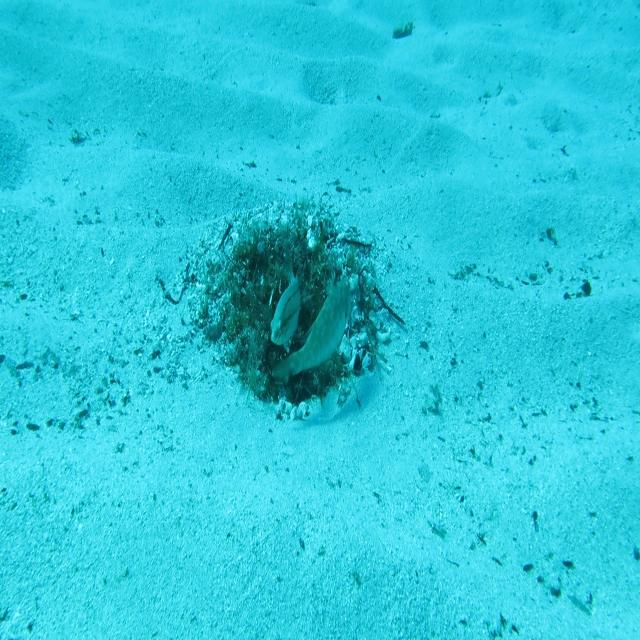BK_SW: (272, 270, 353, 386)
core_nest: (261, 228, 321, 273)
female: (270, 243, 302, 349)
nest: (180, 194, 396, 432)
